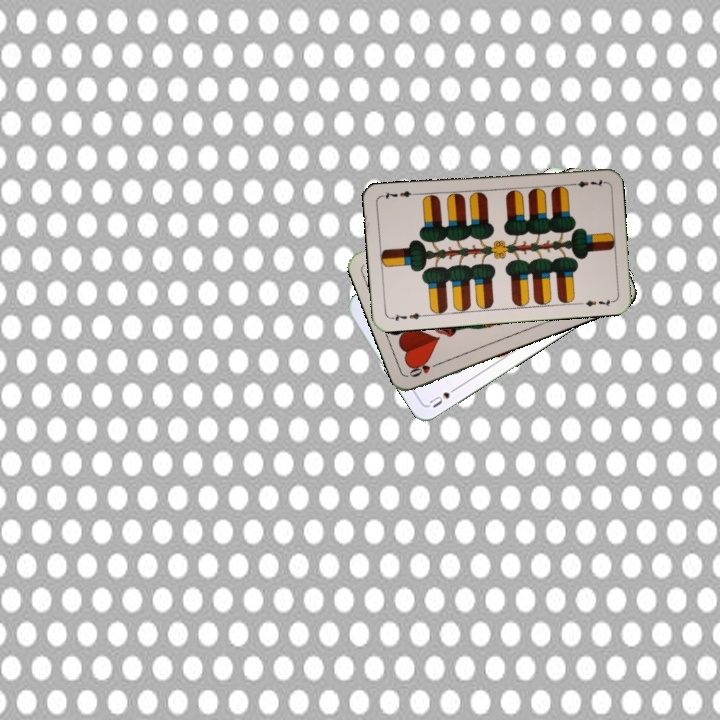E7: (387, 308, 427, 324), (566, 176, 606, 190)
HO: (405, 358, 444, 380)
SU: (425, 382, 462, 410)
